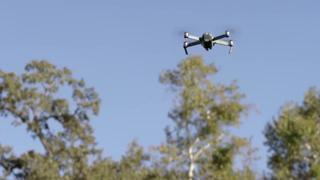UAV: (183, 31, 234, 55)
